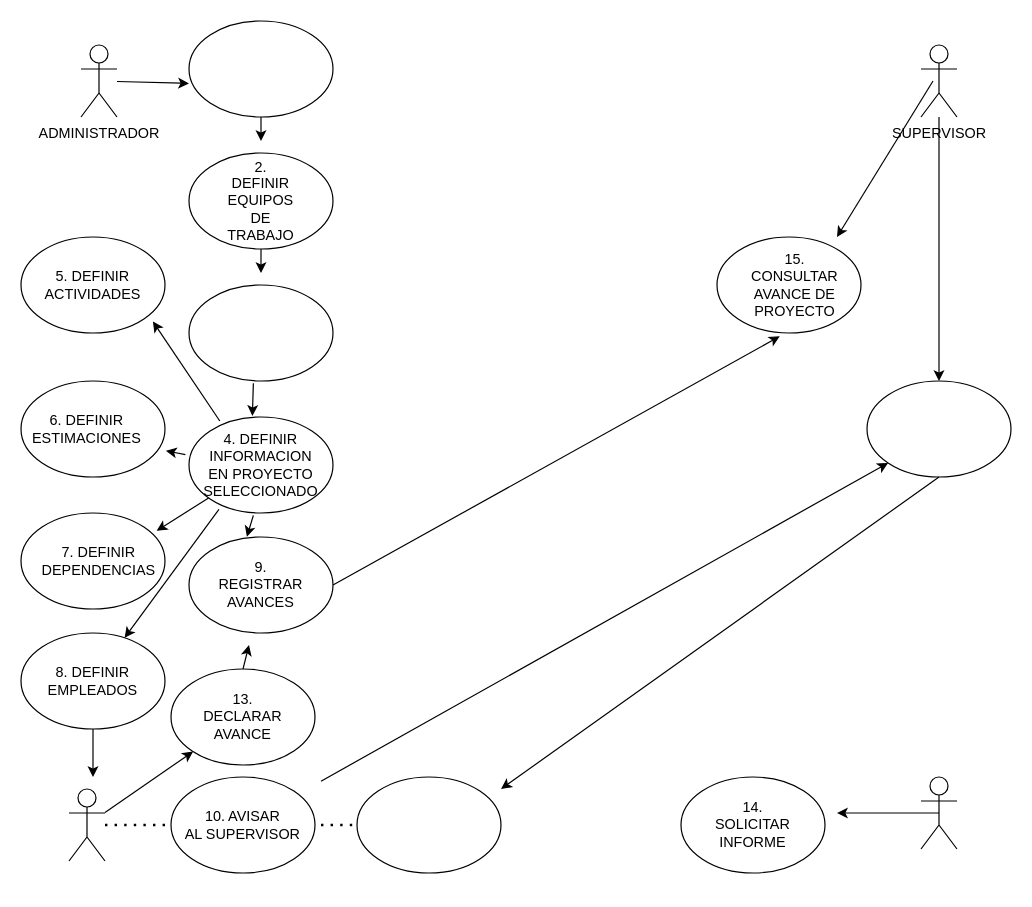
Some shapes in this 1032 by 907 pixel diagram are drawn without their labels. The shapes that lost their labels are listed below. From the top down, each one's centre as x and y in pixels, then its label:
At point 260,68: "1. DEFINIR PROYECTO POR CLIENTE".
At point 260,332: "3. CONTEMPLAR DATOS DE PROYECTO".
At point 938,428: "12, ASIGNAR TAREA NO PLANIFICADA".
At point 86,824: "EMPLEADO".
At point 428,824: "11. REALIZAR TAREA NO ASIGNADA".
At point 938,812: "CLIENTE".
